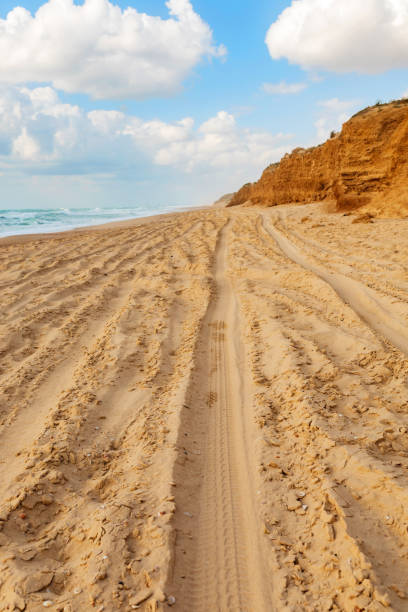vehicle_track: (231, 215, 406, 611), (169, 223, 269, 611), (263, 216, 407, 353)
